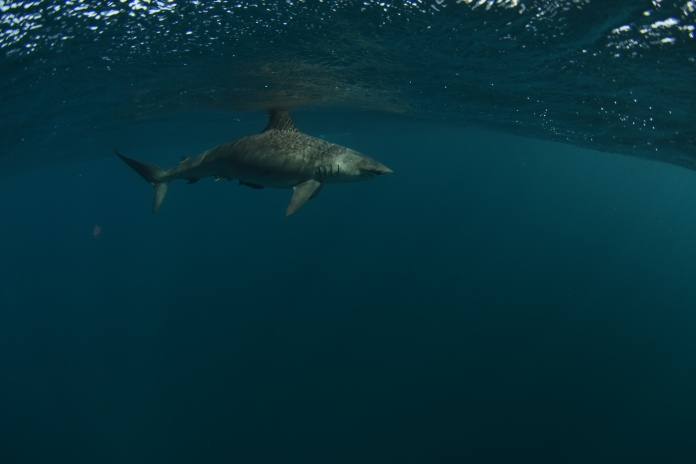Hammer: (94, 91, 414, 249)
